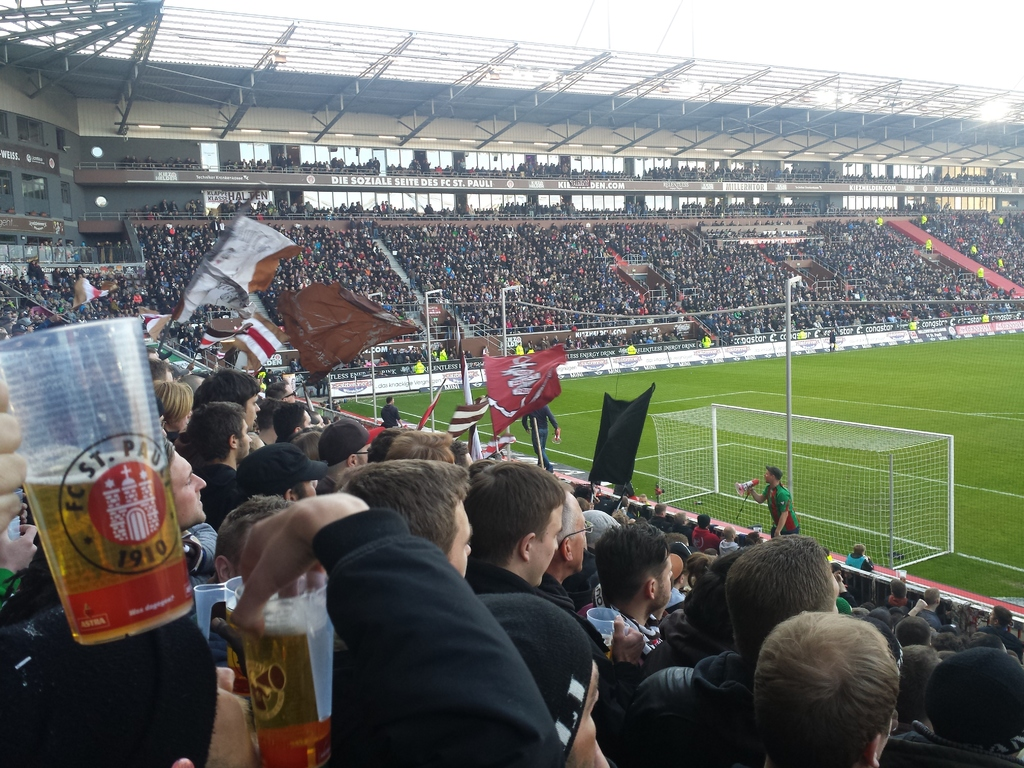Beer: (24, 460, 200, 648), (225, 565, 312, 742)
